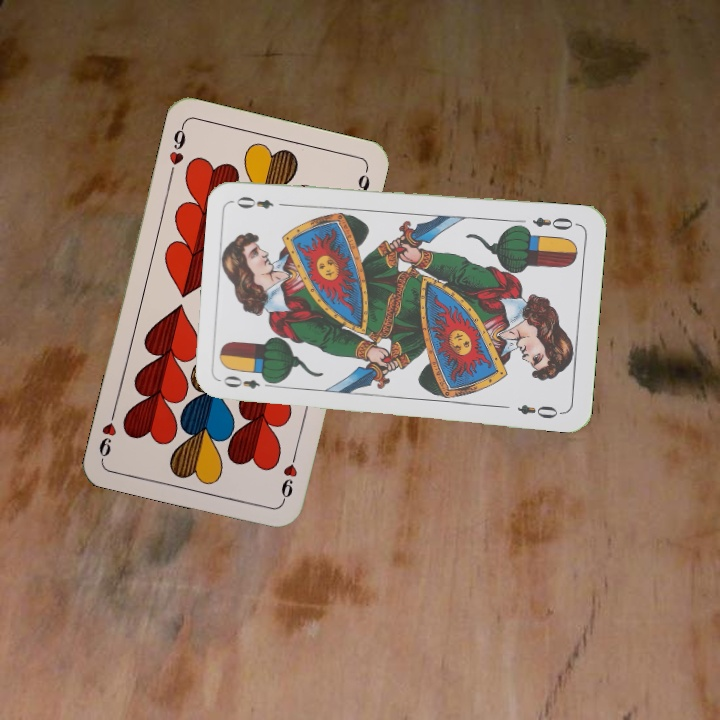EO: (219, 371, 277, 391), (528, 212, 581, 233)
H9: (165, 120, 188, 179), (277, 446, 300, 504)
